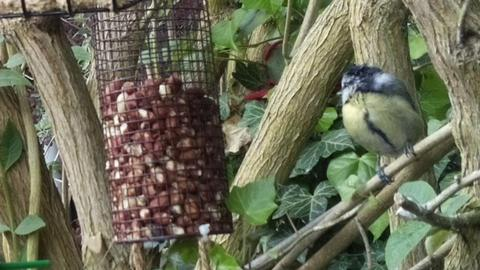blue tit: (336, 65, 424, 186)
